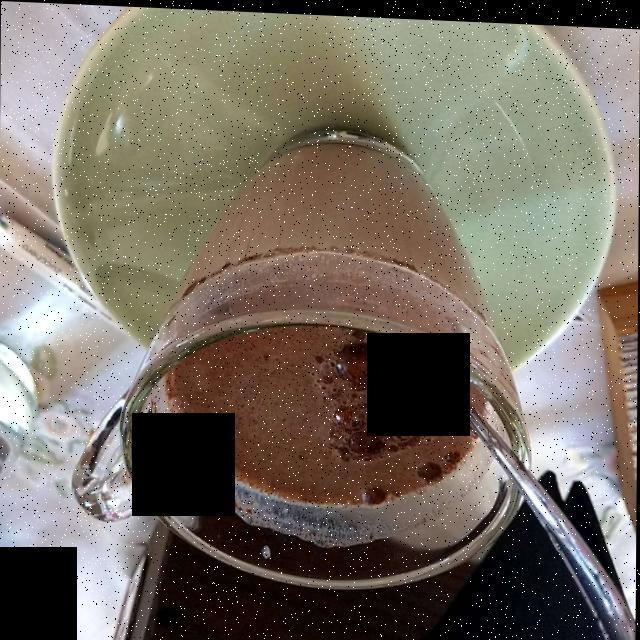chocolate-milk: (150, 138, 487, 499)
